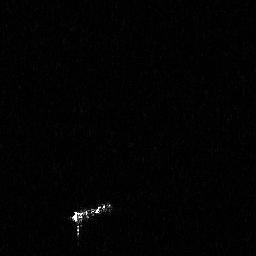ship: (68, 201, 114, 240)
